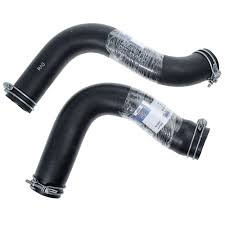radiator_hose: (31, 83, 209, 198), (7, 23, 217, 113)
